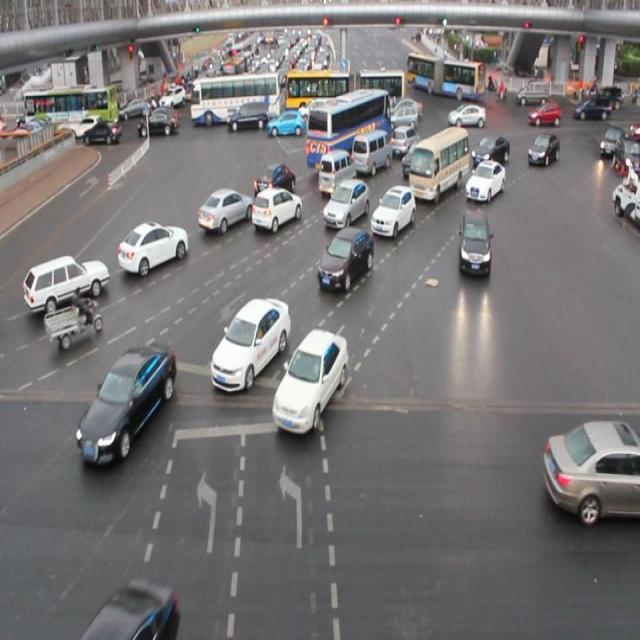car: (74, 345, 176, 469), (542, 416, 640, 526), (274, 330, 351, 436), (212, 297, 290, 396), (23, 254, 109, 318), (315, 224, 374, 292), (117, 221, 189, 276), (196, 186, 254, 234), (251, 184, 302, 234), (369, 183, 414, 239), (458, 206, 491, 279), (322, 178, 369, 228), (464, 160, 505, 203), (254, 162, 296, 203), (470, 135, 509, 171), (524, 130, 559, 168), (399, 144, 432, 176), (390, 125, 419, 161)
truck: (410, 128, 470, 201), (351, 130, 394, 177), (317, 150, 356, 196)
van: (306, 90, 392, 174)
